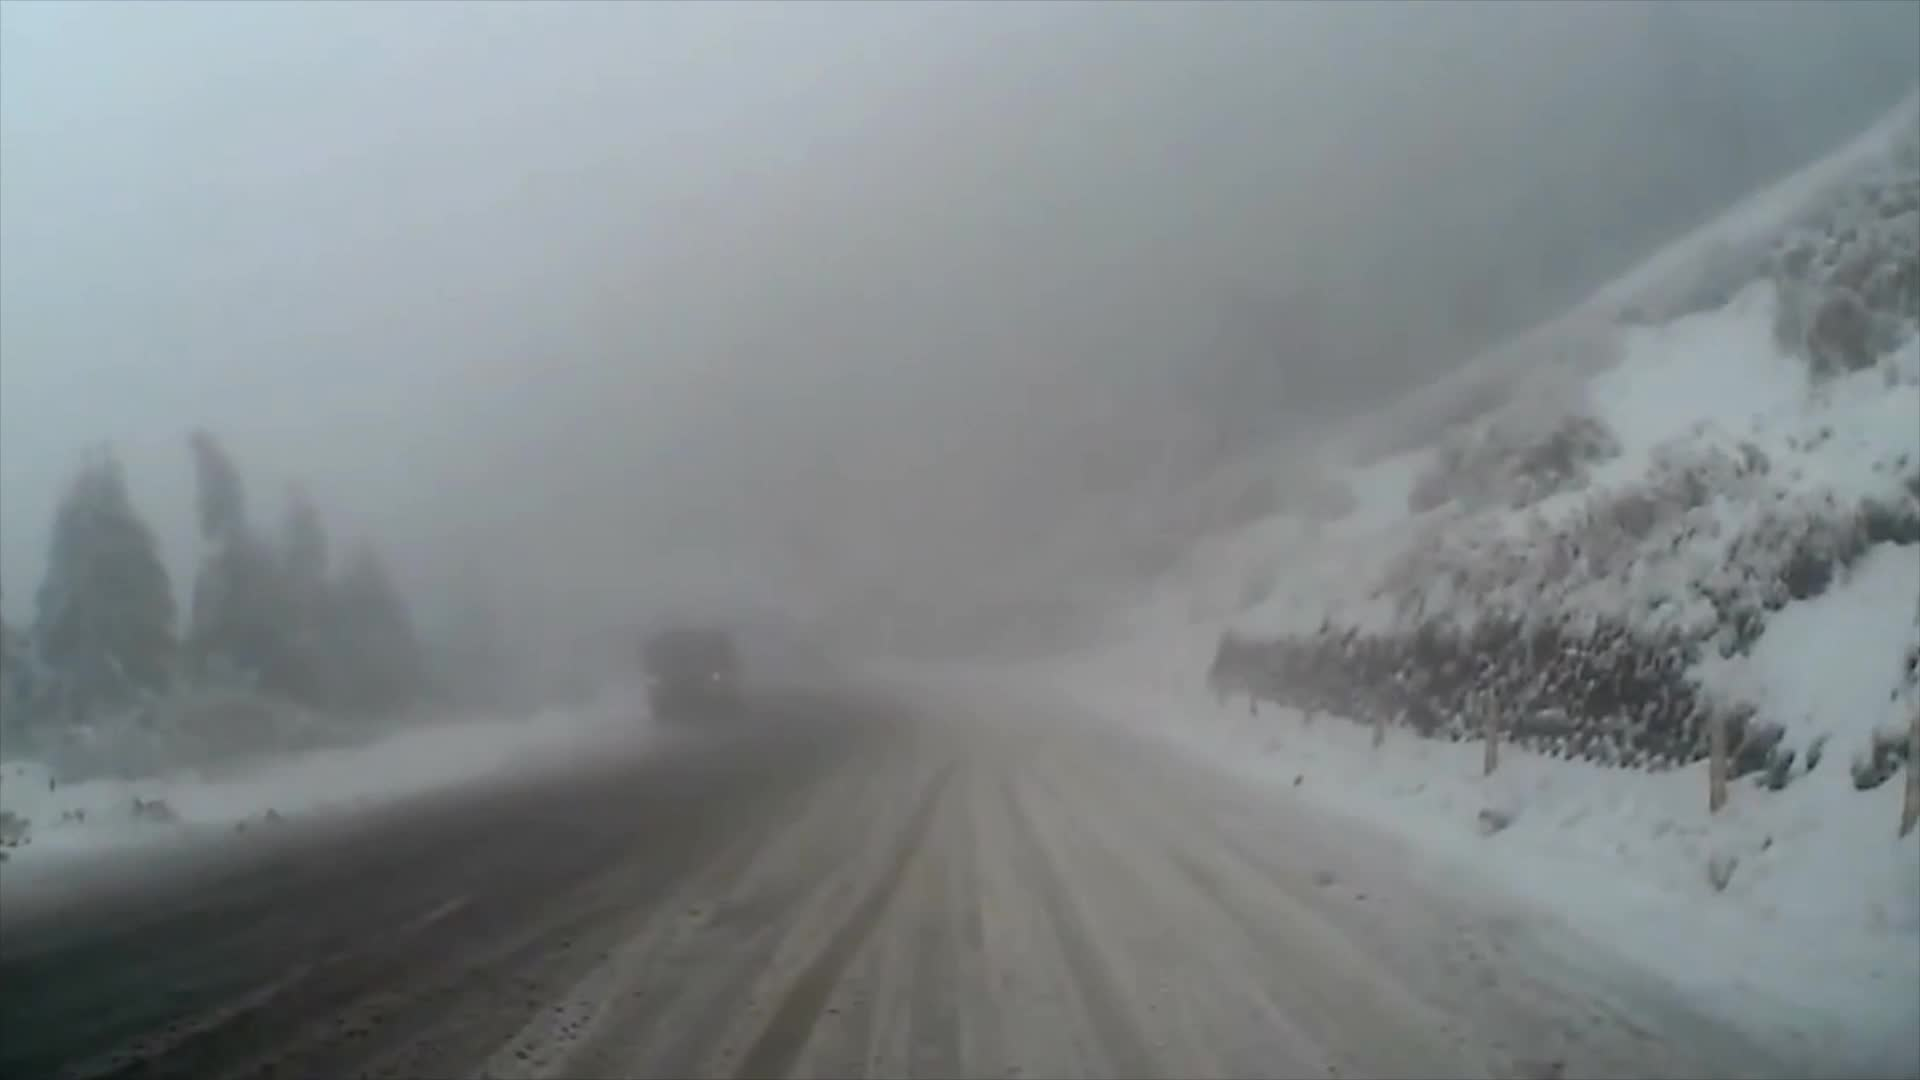vehicle: (637, 626, 745, 723)
